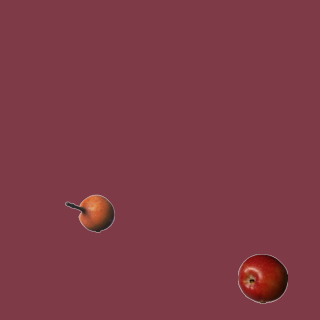Apple Braeburn: (237, 253, 287, 303)
Granadilla: (64, 188, 114, 238)
